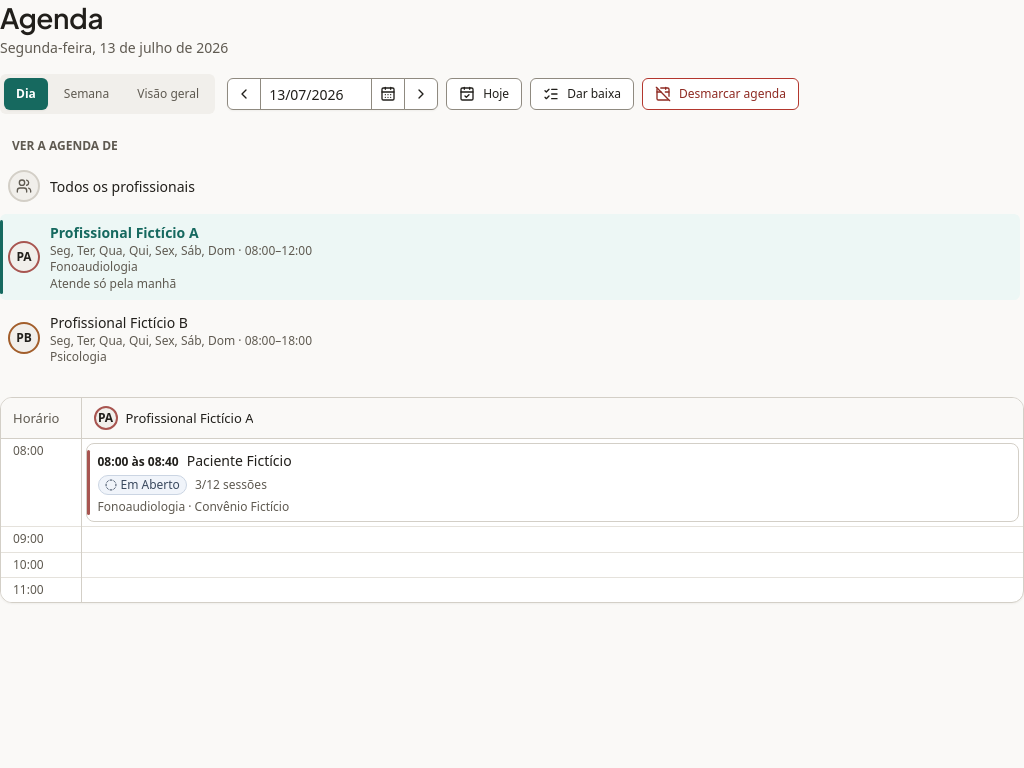
Test: Agenda — o gesto "Dar baixa" na barra (baixa-em-lote-por-status) › deve abrir o diálogo montado só ao clicar, com a prévia do dia à vista, e fechar de volta ao botão
Expected: the button "Paciente Fictício" is shown, [187,450,1010,471]
Click the button "Dar baixa": (582, 94) [530,78,634,110]
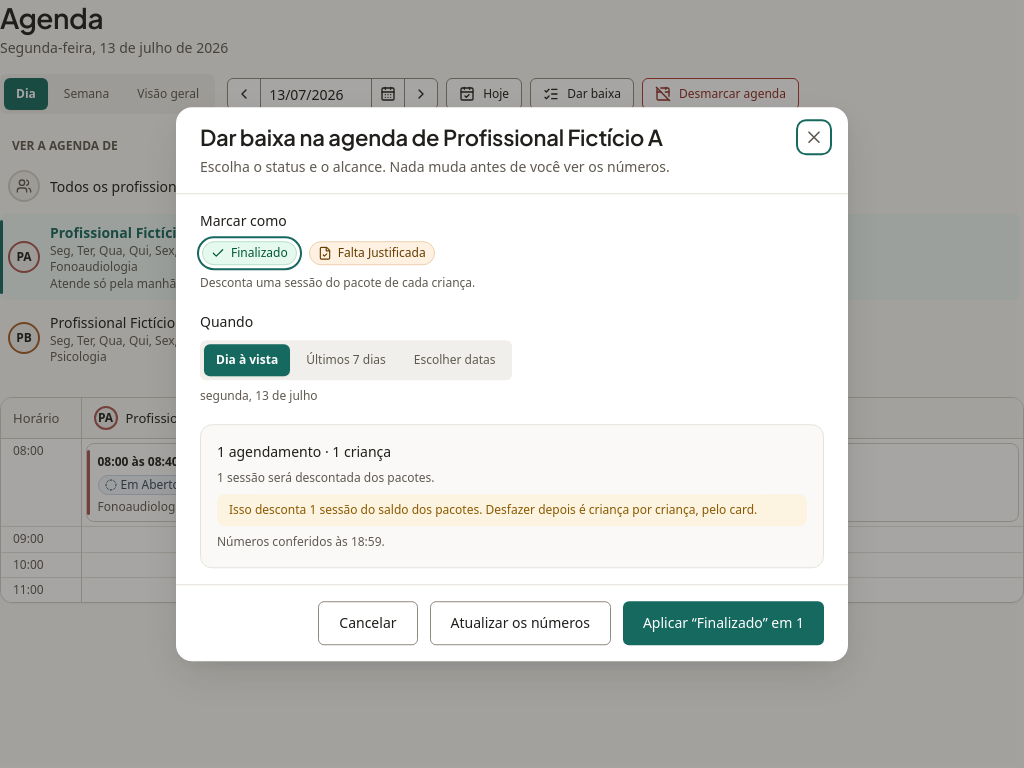
Expected: the button "Aplicar “Finalizado” em 1" is shown, [623,601,824,645]
Click the button "Cancelar": (368, 623) [318,601,418,645]
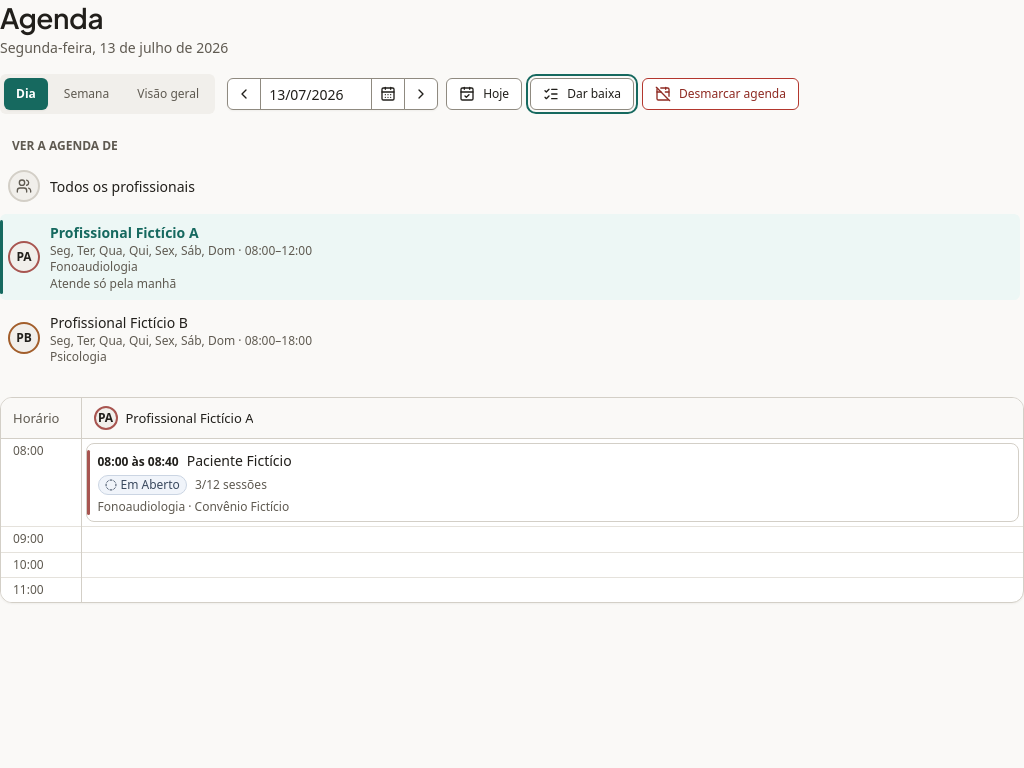
Expected: the dialog is gone
